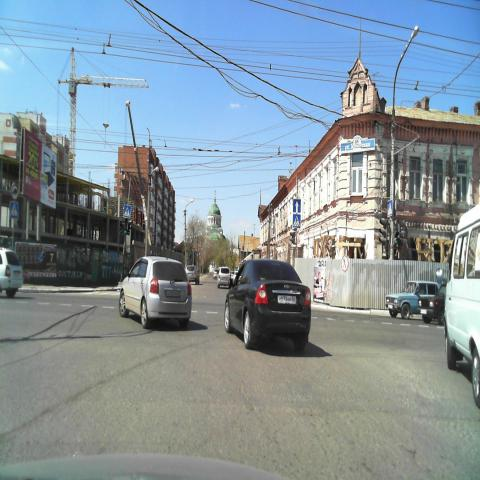3_10: (340, 255, 348, 272)
